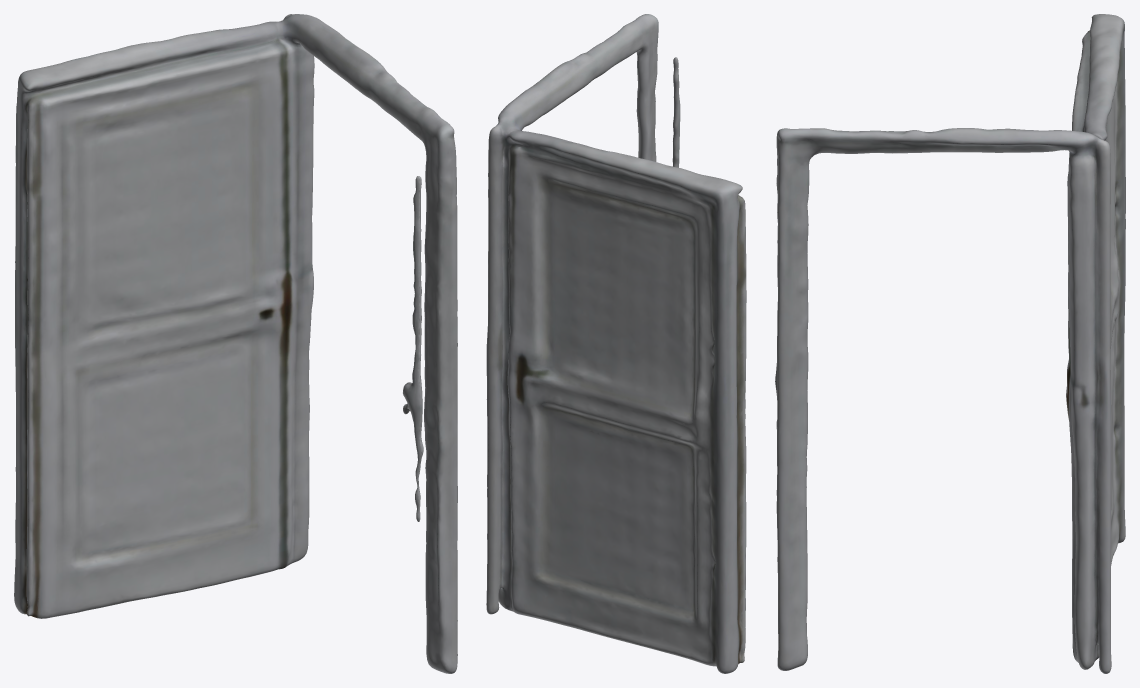
Rendered from 6ffb2fd68bf3_open_door__3d_asset.fbx.
The picture shows the model from 3 angles, left to right: view 1: azimuth 30°, elevation 25°; view 2: azimuth 150°, elevation 25°; view 3: azimuth 270°, elevation 25°; orthographic projection. The views are drawn at different scales.
Visible parts, largest first — view 1: high_poly; view 2: high_poly; view 3: high_poly.
Part boxes in pixels (x1,y1,x2,y2): high_poly: (14, 14, 457, 673); high_poly: (486, 14, 746, 673); high_poly: (775, 14, 1125, 673).
Size of the model in its own units: 53.13 by 100 by 58.35.
